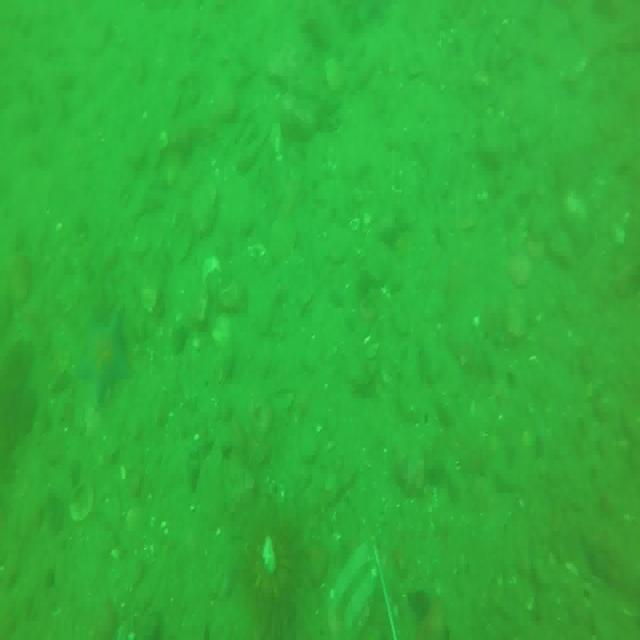echinus: (247, 514, 301, 640)
scallop: (68, 487, 92, 526), (203, 254, 223, 298)
starfish: (78, 312, 135, 398)
